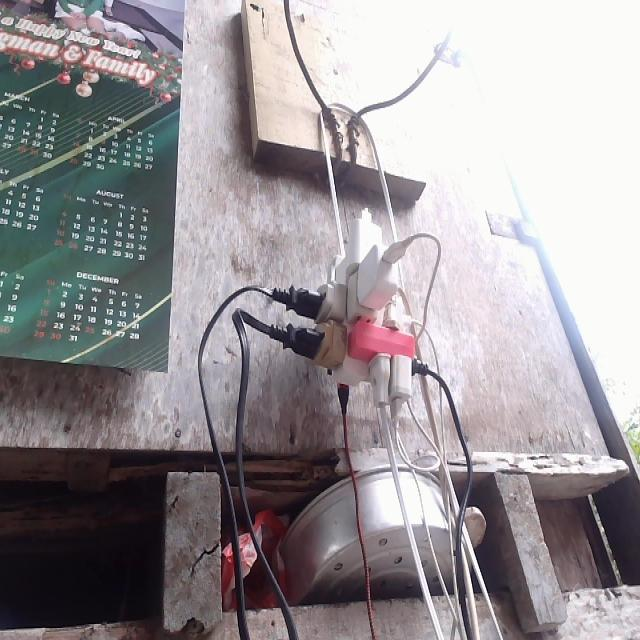-: (304, 207, 431, 409)
